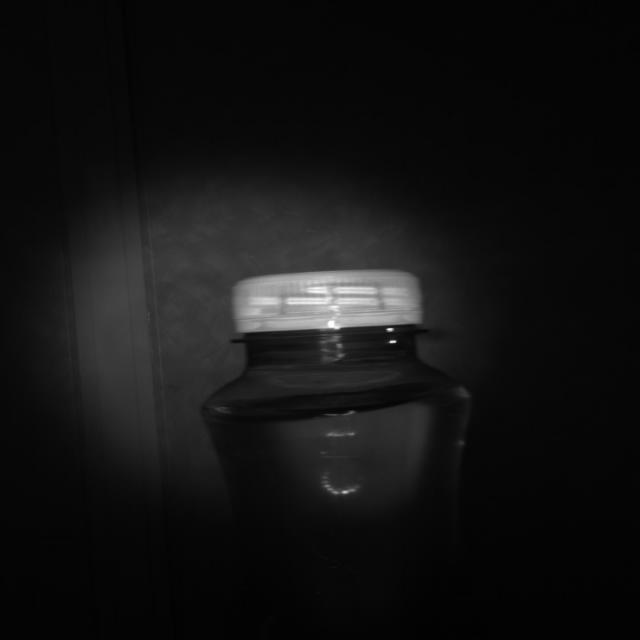Good: (228, 270, 420, 335)
